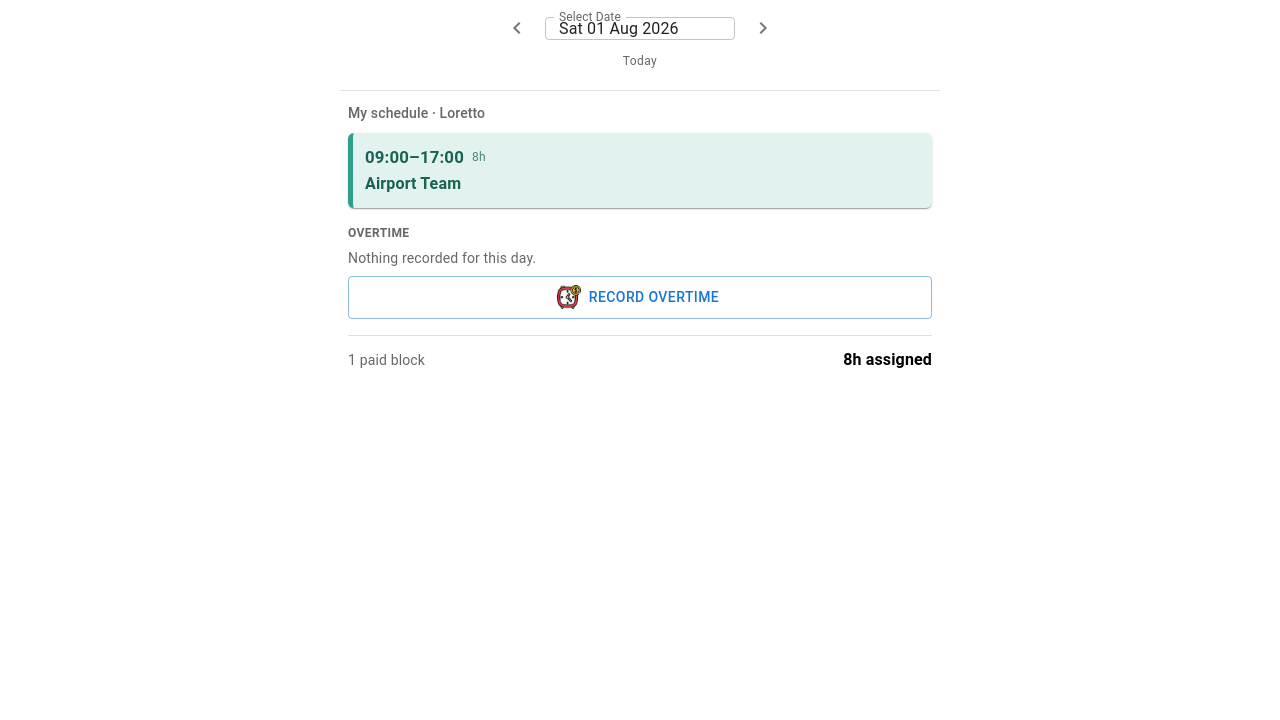
Test: surfaces the backend message when it refuses the entry
Check: the text "Airport Team" is shown, box [365,174,461,193]
Click the button "Record overtime": click(640, 297) [348,276,932,319]
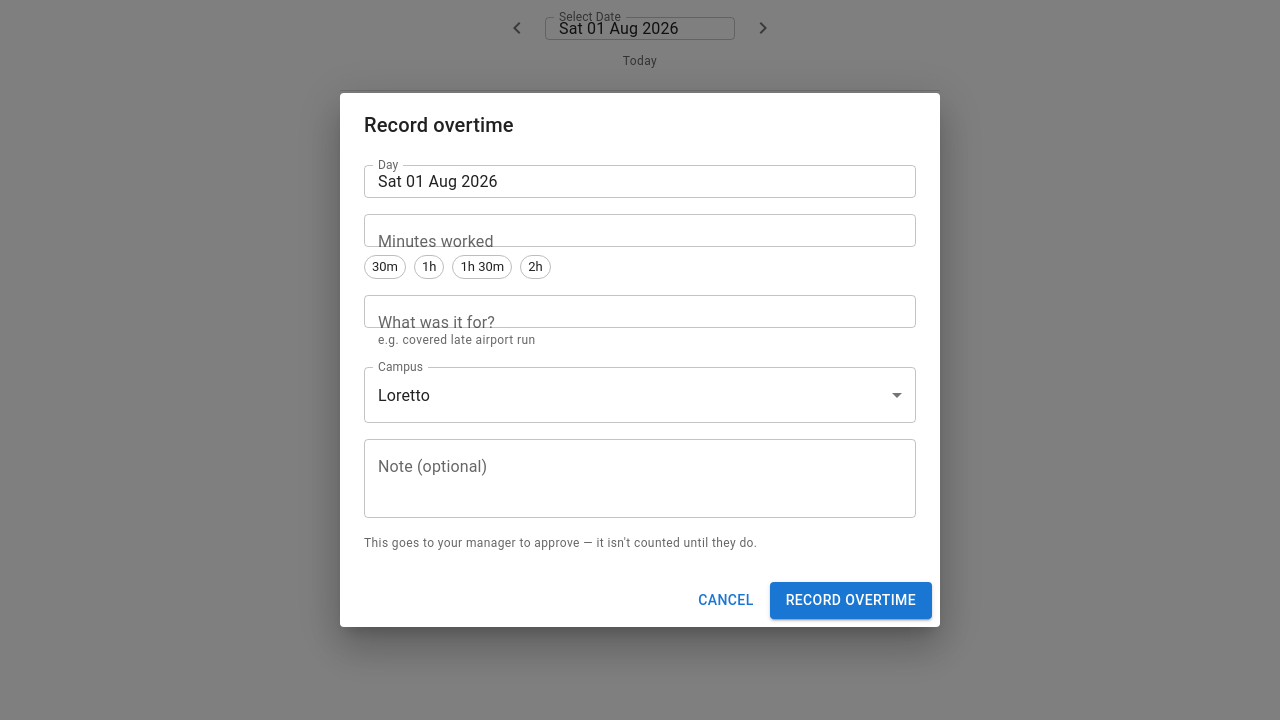
In the number field labelled "Minutes worked": (640, 231) [364,214,916,247], type "90"
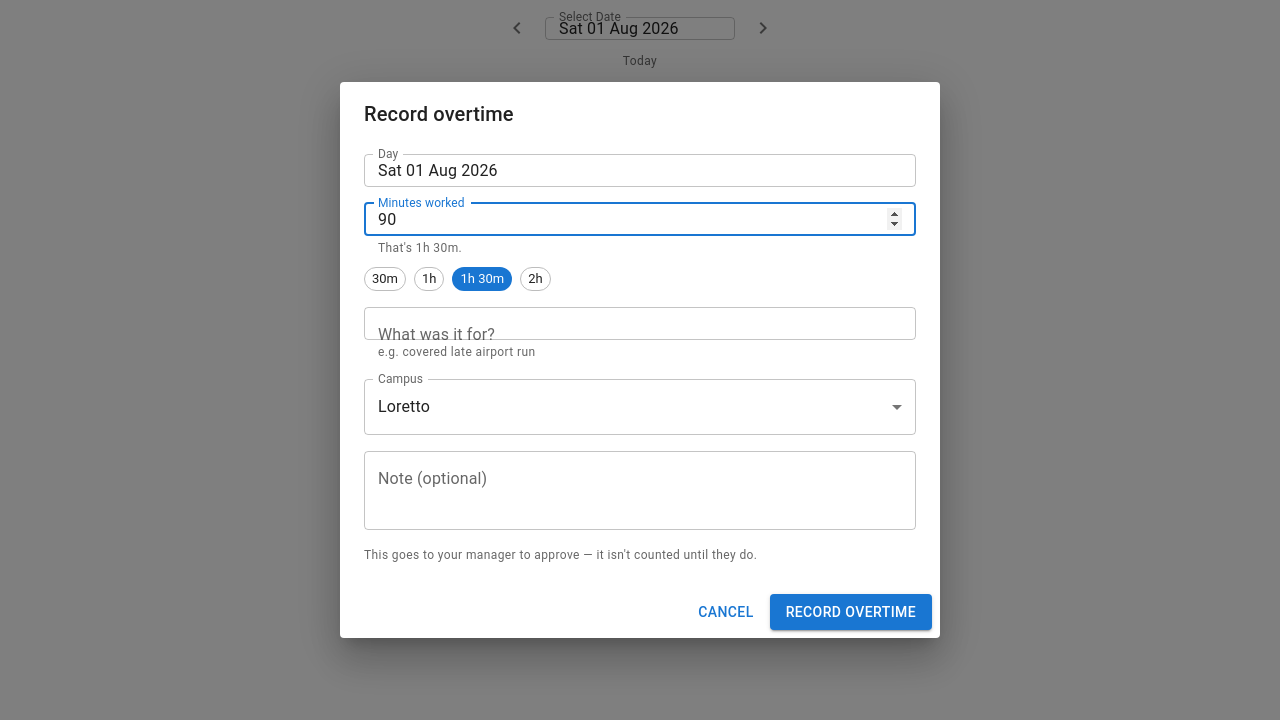
In the field labelled "What was it for?": (640, 323) [364,307,916,340], type "Late airport run"
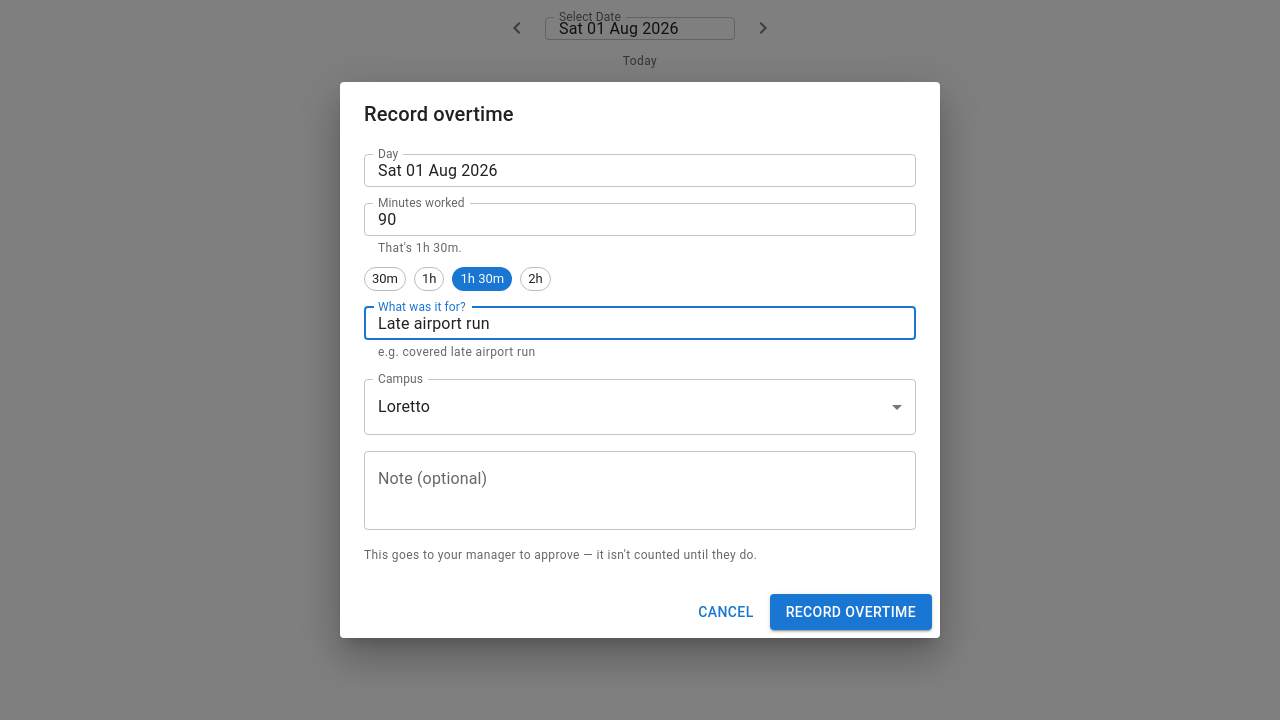
Click the button "Record overtime": click(851, 612) [770,594,932,630]
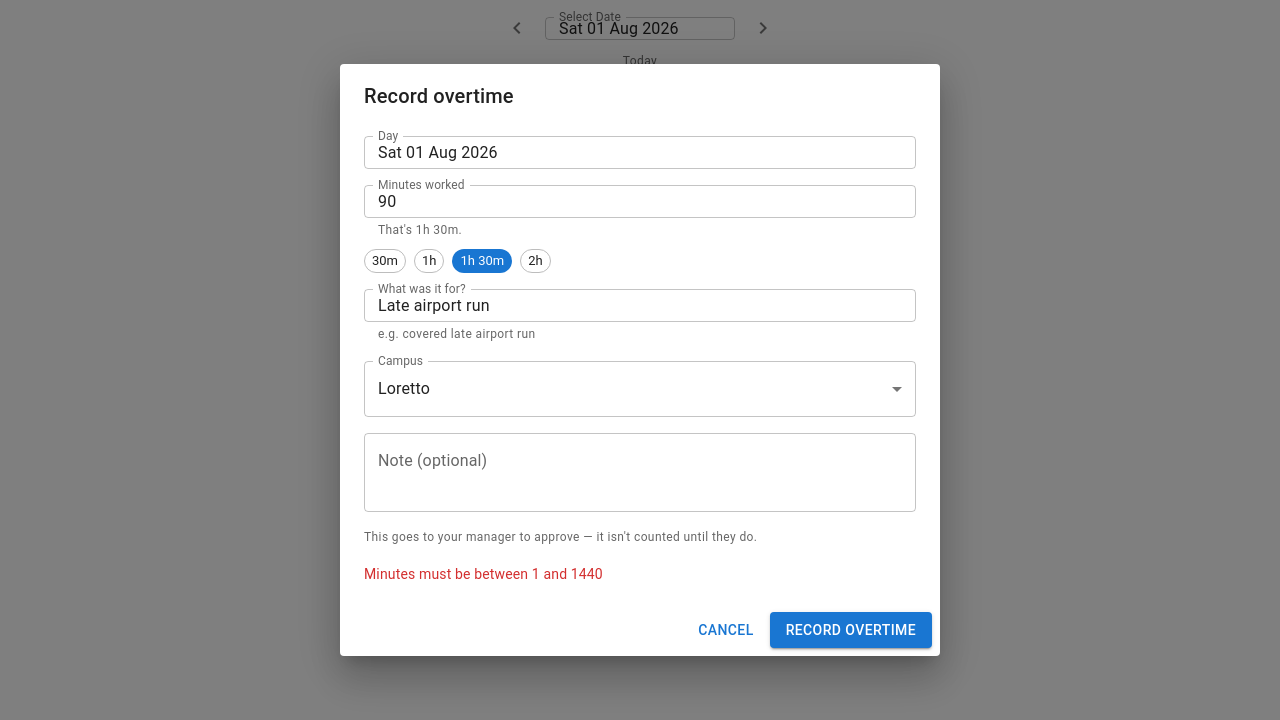
Check: the text "Minutes must be between 1 and 1440" is shown, box [364,566,603,582]
